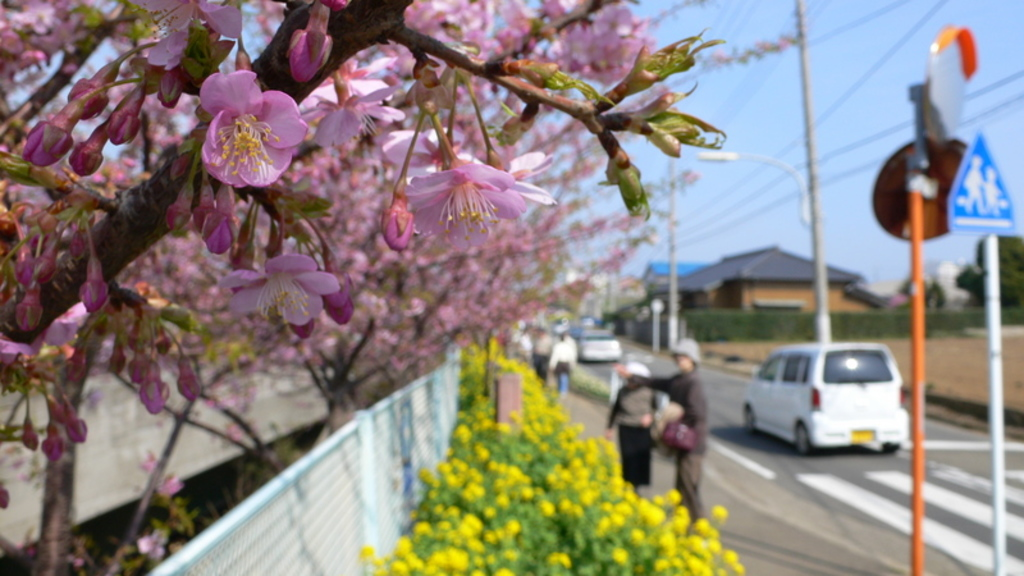cars: (741, 341, 910, 454), (569, 330, 622, 357)
